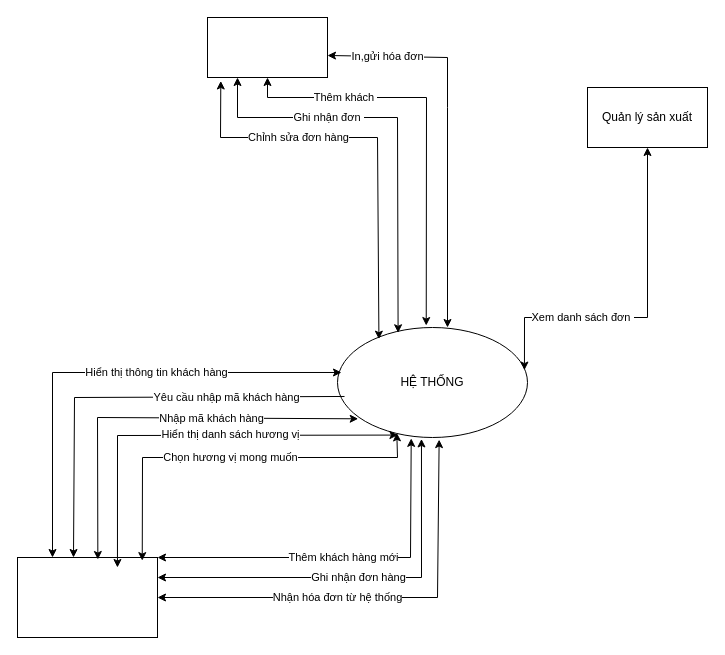
This 725x655 diagram has some shape labels left out. Here are the shapes that lost their labels. From the top down, the centre of each, then its label:
At (267,47): "Nhân viên Văn phòng".
At (87,597): "Khách hàng".
